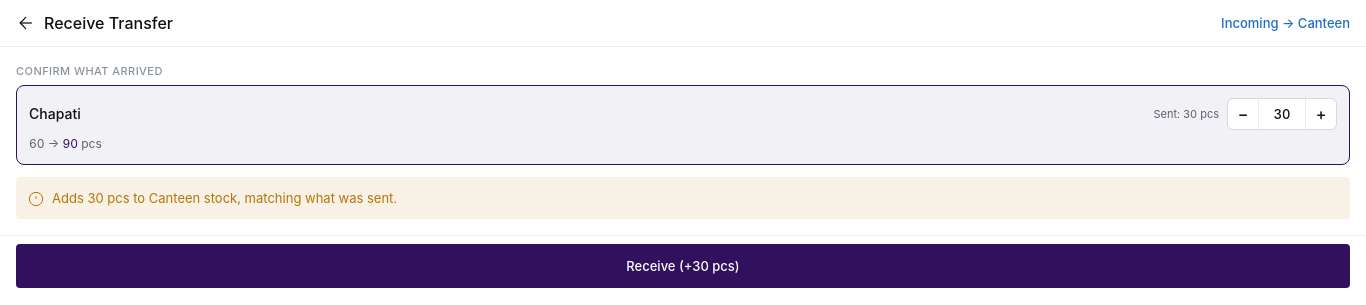
Test: /canteen/transfer/receive — kit composition › blocks Receive while a line has been zeroed out
Replace the text in the number field named "Chapati quantity" with "0" at (1282, 114), box [1274,106,1290,122]
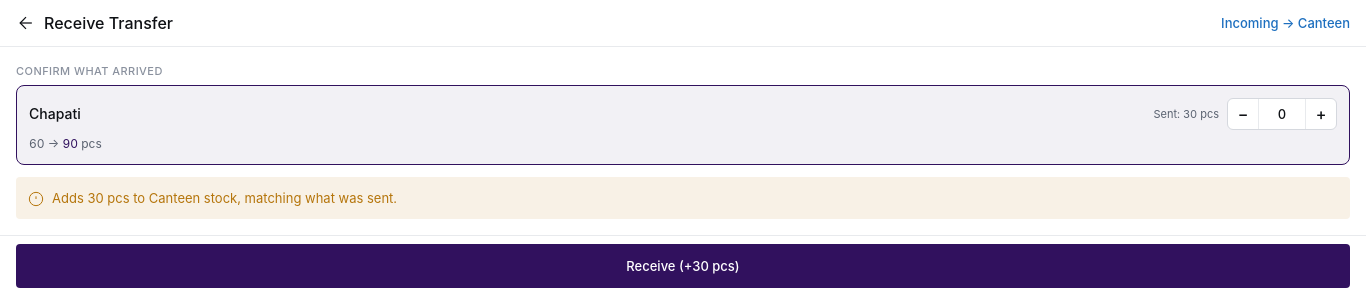
Press Tab
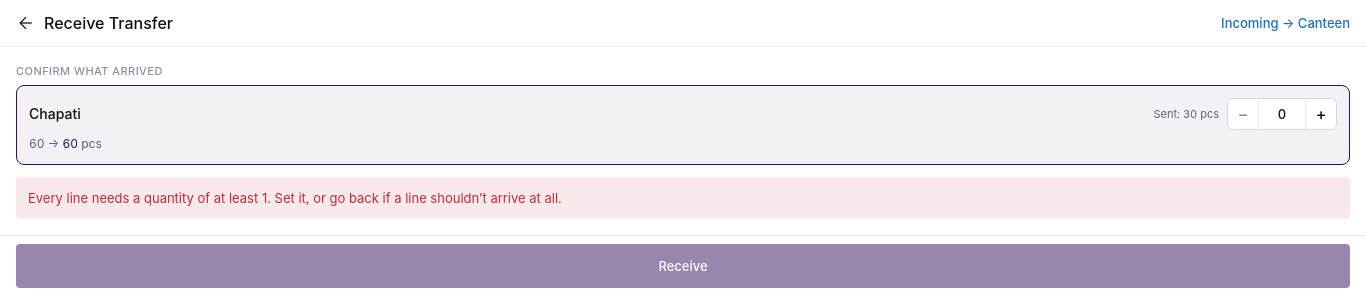
Expected: the button "Receive" is disabled, [16,244,1350,288]
